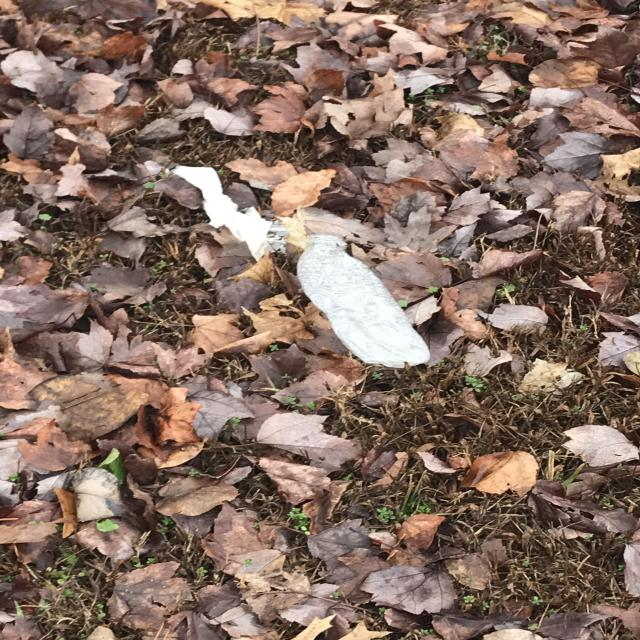litter: (295, 231, 432, 365)
